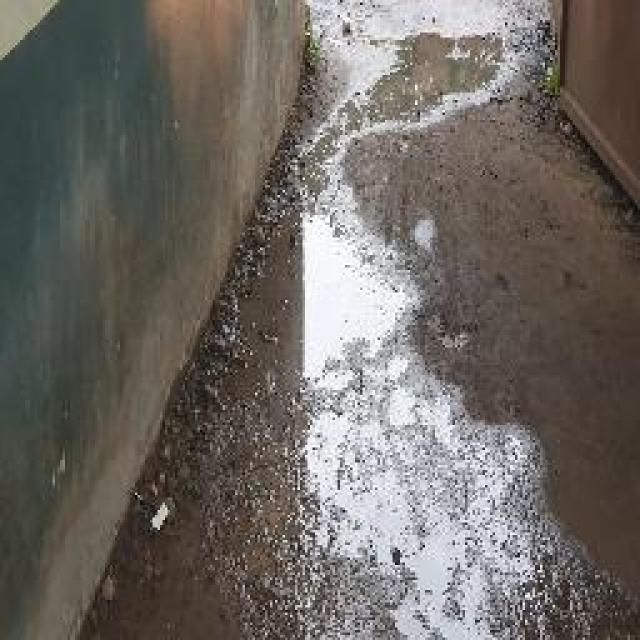stagnation: (271, 182, 637, 640), (300, 18, 523, 143)
